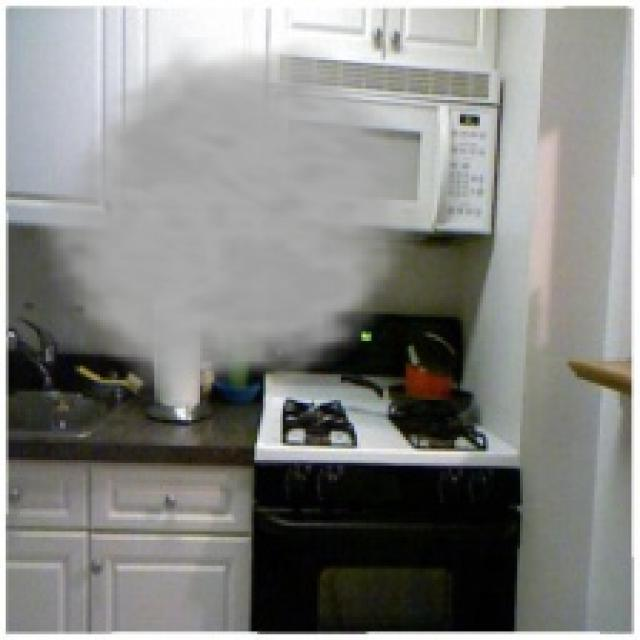Smoke: (26, 37, 448, 406)
